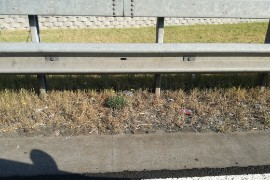trash: (177, 103, 197, 117)
